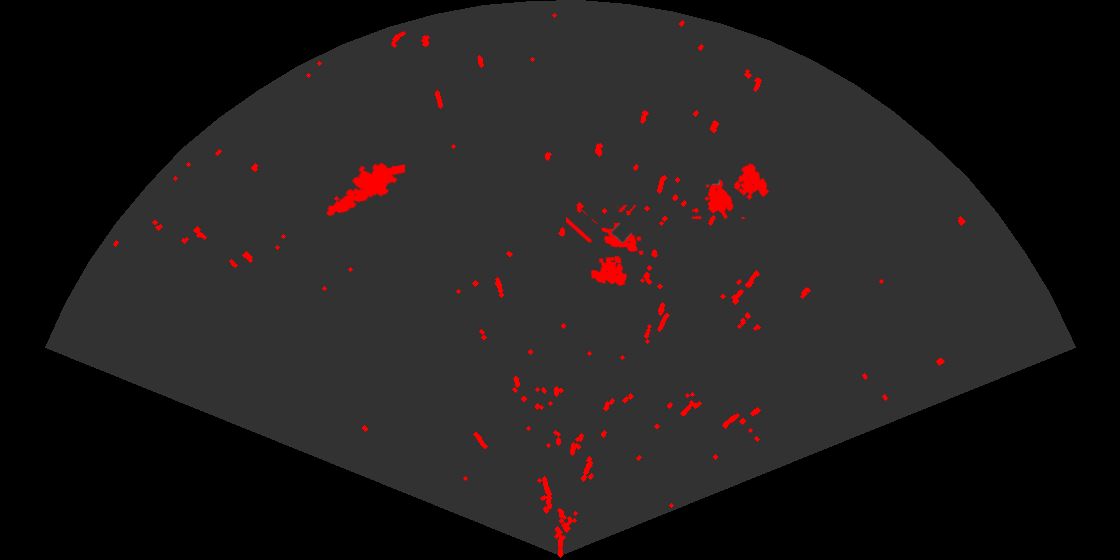cage: (566, 205, 645, 287), (692, 162, 771, 219)
frogman: (325, 161, 405, 218)
